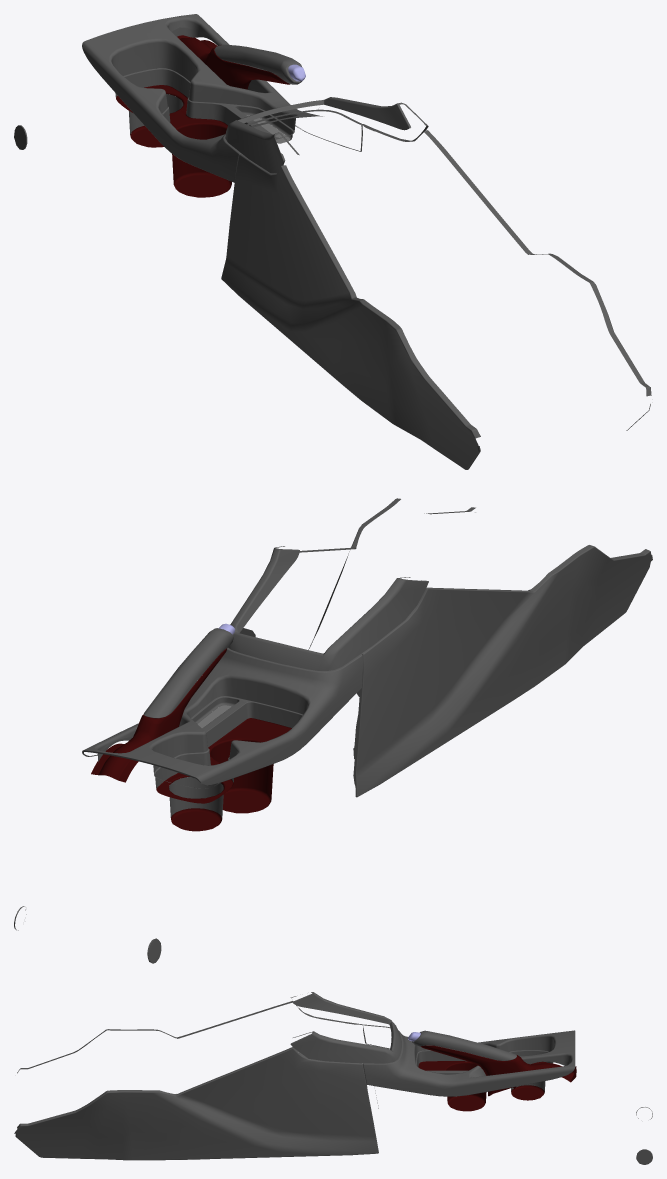
The model's file is TOYOTA_URBAN_CRUISER_IN_CENTERCONSOLE_MESH.glb.
3 views of the same model, one above another, from view 1: azimuth 30°, elevation 25°; view 2: azimuth 150°, elevation 25°; view 3: azimuth 270°, elevation 25° (orthographic). The views are drawn at different scales.
Visible parts, largest first — view 1: TOYOTA_URBAN_CRUISER_IN_CENTERCONSOLE_MESH; view 2: TOYOTA_URBAN_CRUISER_IN_CENTERCONSOLE_MESH; view 3: TOYOTA_URBAN_CRUISER_IN_CENTERCONSOLE_MESH.
Boxes of the visible parts, x1,y1,x2,y2 form: TOYOTA_URBAN_CRUISER_IN_CENTERCONSOLE_MESH: (14, 14, 651, 469); TOYOTA_URBAN_CRUISER_IN_CENTERCONSOLE_MESH: (14, 498, 652, 963); TOYOTA_URBAN_CRUISER_IN_CENTERCONSOLE_MESH: (14, 992, 652, 1164).
Bounding box in the file's own units: 0.2678 × 0.2558 × 1.13.
